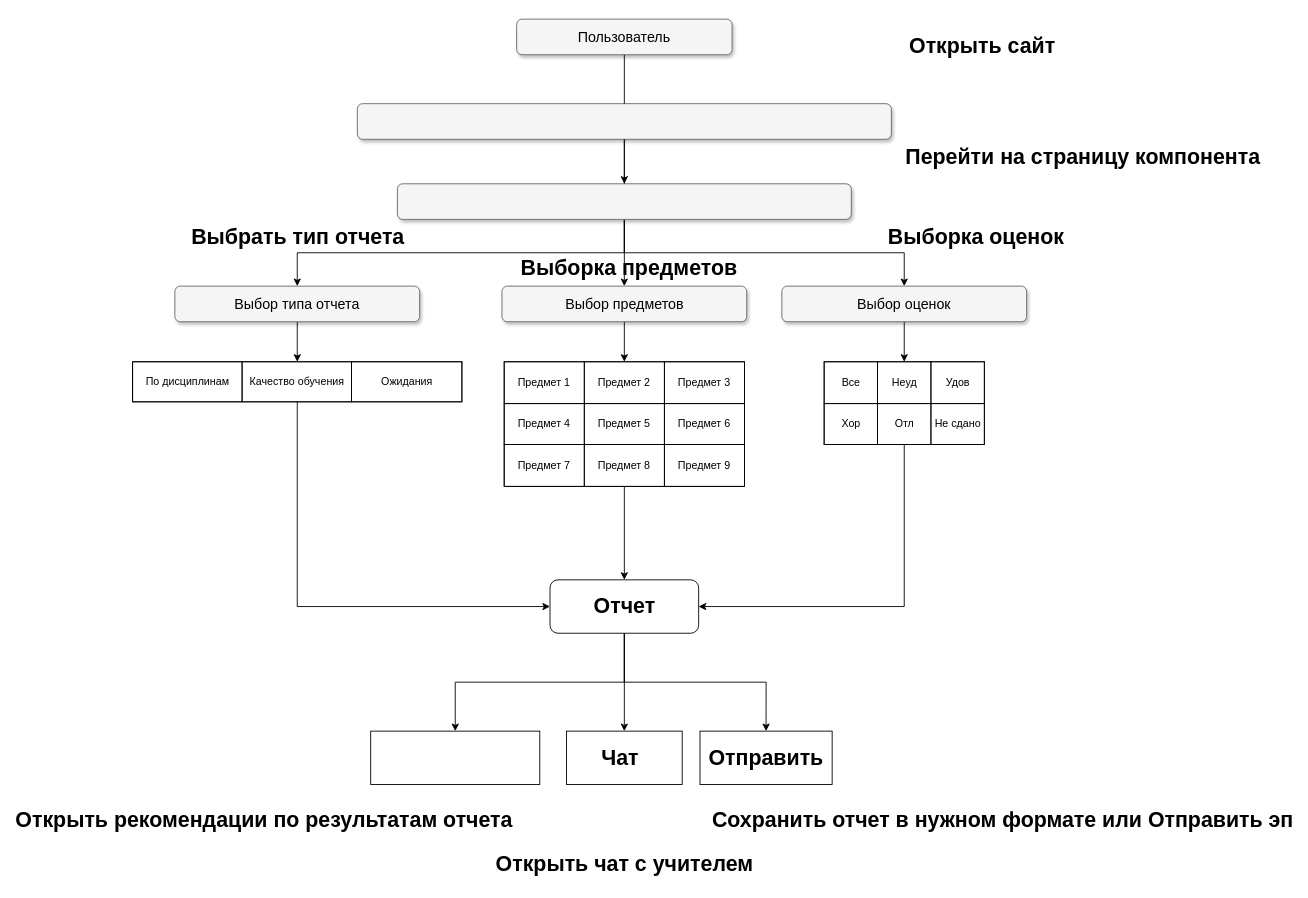
This 1308x898 diagram has some shape labels left out. The centre of each missing label's shape, as x and y in pixels:
Веб-страница "Анализ успеваемости": point 625,202
Главная страница сайта: point 625,122
Рекомендации: point 455,757
